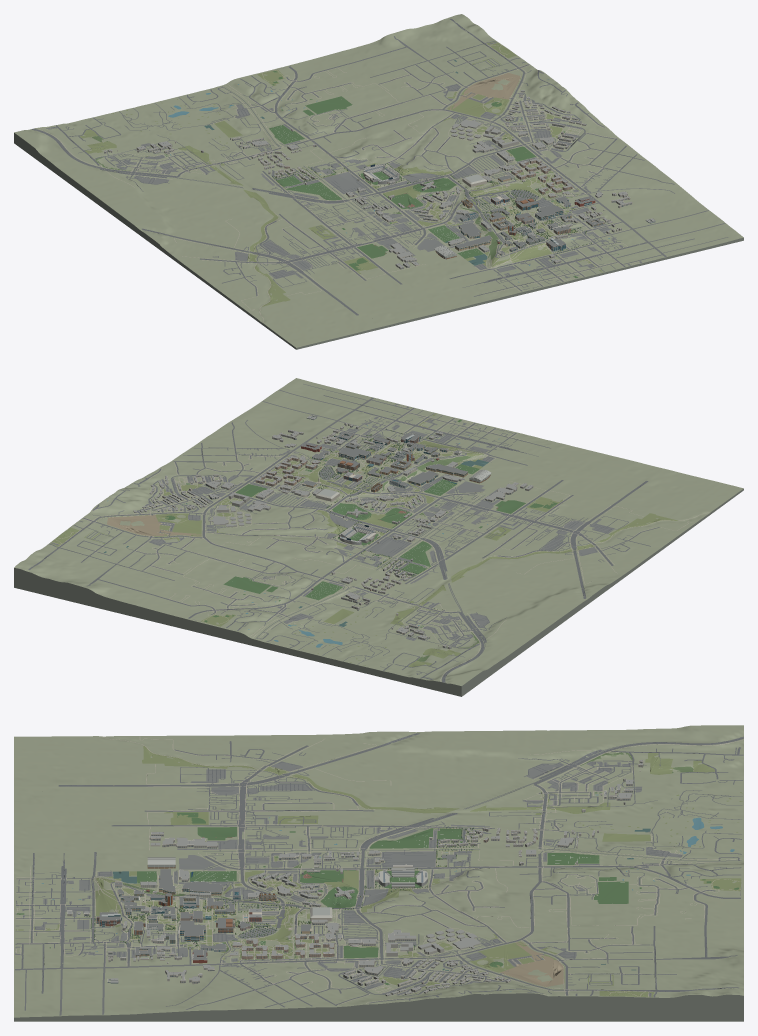
The model's file is campus_web.glb.
The picture shows the model from 3 angles, top to bottom: view 1: azimuth 30°, elevation 25°; view 2: azimuth 150°, elevation 25°; view 3: azimuth 270°, elevation 25°; orthographic projection. The views are drawn at different scales.
Visible parts, largest first — view 1: campus_tile_-2_-2, campus_tile_1_-4, campus_tile_-1_0, campus_tile_-1_1, campus_tile_1_-3, campus_tile_-1_-2, campus_tile_0_0, campus_tile_0_-1, campus_tile_-1_-1, campus_tile_1_-2, campus_tile_-2_-3, campus_tile_-4_-5 (+26 smaller); view 2: campus_tile_-2_-2, campus_tile_-1_0, campus_tile_1_-4, campus_tile_0_0, campus_tile_-1_-2, campus_tile_-1_-1, campus_tile_1_-3, campus_tile_-1_1, campus_tile_0_-1, campus_tile_0_-2, campus_tile_1_-2, campus_tile_-3_0 (+27 smaller); view 3: campus_tile_-2_-2, campus_tile_1_-4, campus_tile_0_0, campus_tile_-1_0, campus_tile_1_-3, campus_tile_-1_1, campus_tile_-1_-2, campus_tile_0_-1, campus_tile_1_-2, campus_tile_-3_0, campus_tile_-1_-1, campus_tile_-4_-5 (+41 smaller).
Boxes of the visible parts, x1,y1,x2,y2 form: campus_tile_-2_-2: (14,14,743,349); campus_tile_1_-4: (430,73,520,123); campus_tile_-1_0: (448,207,535,266); campus_tile_-1_1: (449,234,587,287); campus_tile_1_-3: (460,100,551,145); campus_tile_-1_-2: (277,125,468,239); campus_tile_0_0: (497,196,592,237); campus_tile_0_-1: (468,171,557,209); campus_tile_-1_-1: (415,186,500,228); campus_tile_1_-2: (495,130,590,171); campus_tile_-2_-3: (293,145,385,199); campus_tile_-4_-5: (31,129,243,188); campus_tile_-2_-2: (14,378,743,696); campus_tile_-1_0: (367,447,483,489); campus_tile_1_-4: (107,509,225,548); campus_tile_0_0: (312,438,415,473); campus_tile_-1_-2: (304,468,460,595); campus_tile_-1_-1: (341,475,435,511); campus_tile_1_-3: (150,486,247,525); campus_tile_-1_1: (391,423,538,465); campus_tile_0_-1: (283,459,368,495); campus_tile_0_-2: (249,480,339,518); campus_tile_1_-2: (192,468,290,503); campus_tile_-3_0: (474,480,573,520); campus_tile_-2_-2: (14,725,743,1021); campus_tile_1_-4: (461,936,576,986); campus_tile_0_0: (137,897,237,953); campus_tile_-1_0: (110,869,243,914); campus_tile_1_-3: (382,937,492,981); campus_tile_-1_1: (51,852,154,935); campus_tile_-1_-2: (147,834,587,942); campus_tile_0_-1: (226,906,325,949); campus_tile_1_-2: (298,934,403,988); campus_tile_-3_0: (111,810,239,850); campus_tile_-1_-1: (223,870,320,914); campus_tile_-4_-5: (463,736,743,809).
Bounding box in the file's own units: 141 × 6.66 × 154.
